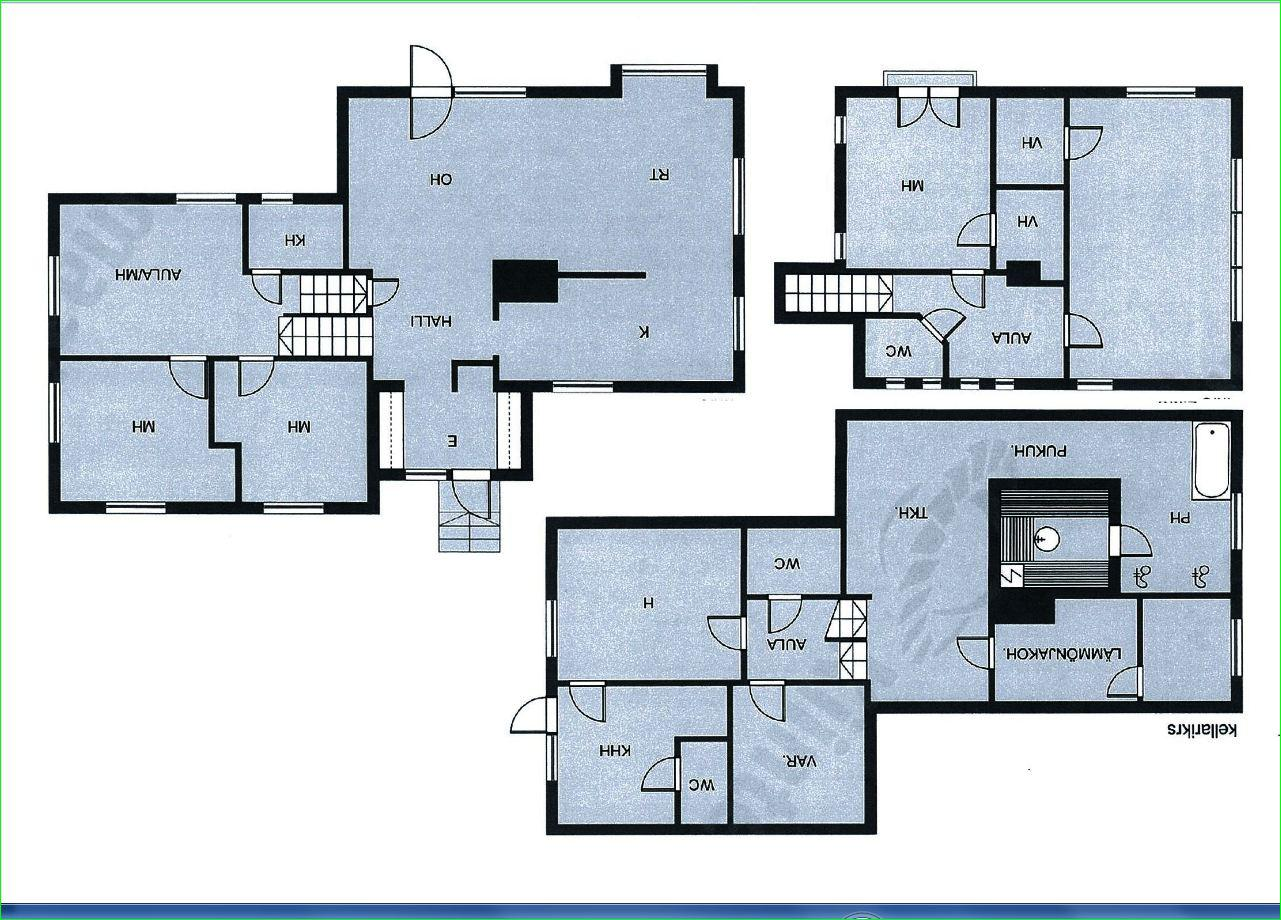bathroom: (1114, 416, 1238, 592), (747, 528, 846, 594), (862, 313, 948, 376), (678, 739, 731, 825)
door: (405, 41, 456, 96), (406, 91, 460, 142), (507, 694, 565, 738), (449, 471, 495, 522), (164, 354, 209, 403), (565, 678, 610, 726), (948, 266, 991, 314), (748, 679, 791, 726), (235, 354, 280, 398), (955, 209, 999, 253), (1063, 311, 1109, 352), (894, 82, 932, 131), (1059, 125, 1107, 163), (706, 610, 748, 653), (950, 632, 996, 671), (637, 754, 683, 793), (765, 591, 804, 636), (918, 307, 968, 342), (1110, 525, 1155, 562), (250, 269, 291, 307), (363, 278, 405, 315), (931, 87, 965, 132), (1101, 664, 1146, 696)
perimeter: (41, 72, 744, 512), (545, 411, 1240, 830), (839, 84, 1245, 390)
stairs: (782, 270, 894, 313), (277, 313, 373, 356), (297, 271, 374, 317), (831, 601, 869, 640), (839, 643, 872, 676)
window: (726, 151, 753, 243), (452, 78, 537, 107), (614, 58, 720, 81), (1224, 488, 1252, 557), (1116, 82, 1203, 104), (94, 498, 176, 521), (1226, 610, 1250, 687), (258, 498, 335, 522), (168, 187, 245, 211), (539, 728, 564, 791), (539, 376, 621, 395), (541, 591, 562, 665), (729, 290, 752, 357), (43, 248, 63, 324), (43, 375, 62, 454), (1229, 265, 1250, 331), (1226, 148, 1246, 215), (1228, 209, 1250, 269), (400, 463, 452, 488), (1073, 376, 1119, 395), (258, 189, 298, 207), (987, 376, 1024, 394), (881, 374, 909, 393), (955, 375, 983, 394), (916, 375, 944, 393)
